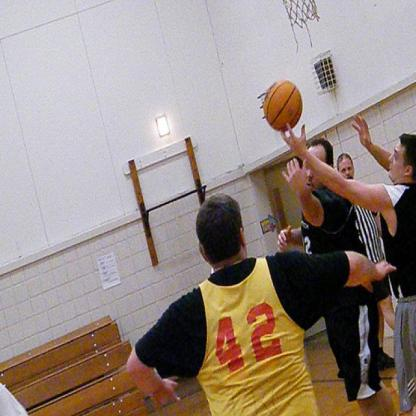basketball: (262, 79, 304, 131)
